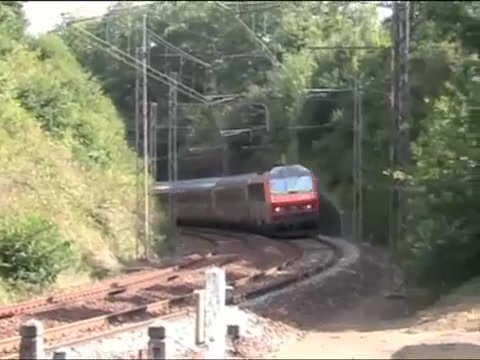train: (157, 164, 324, 239)
